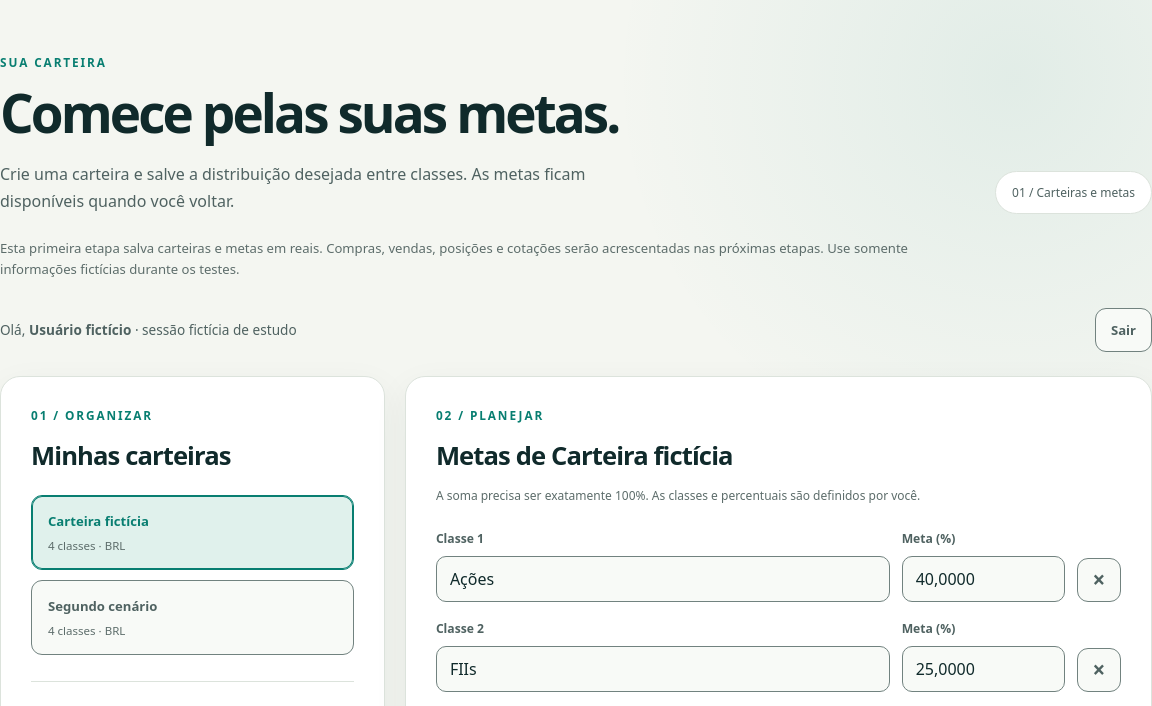
SavedPortfolio › requires an explicit discard before switching or creating a portfolio with unsaved targets
Replace the text in the field named "Meta da classe 1" with "39": (983, 578) [902,556,1065,602]
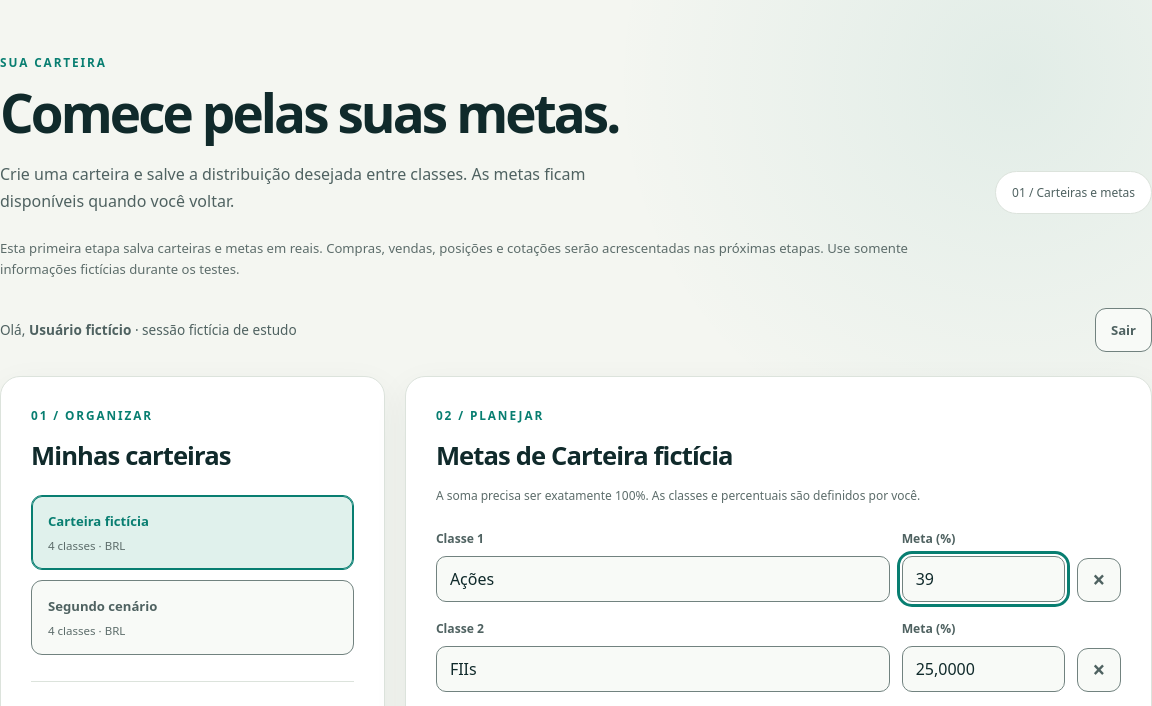
Replace the text in the field named "Meta da classe 2" with "26": (983, 668) [902,646,1065,692]
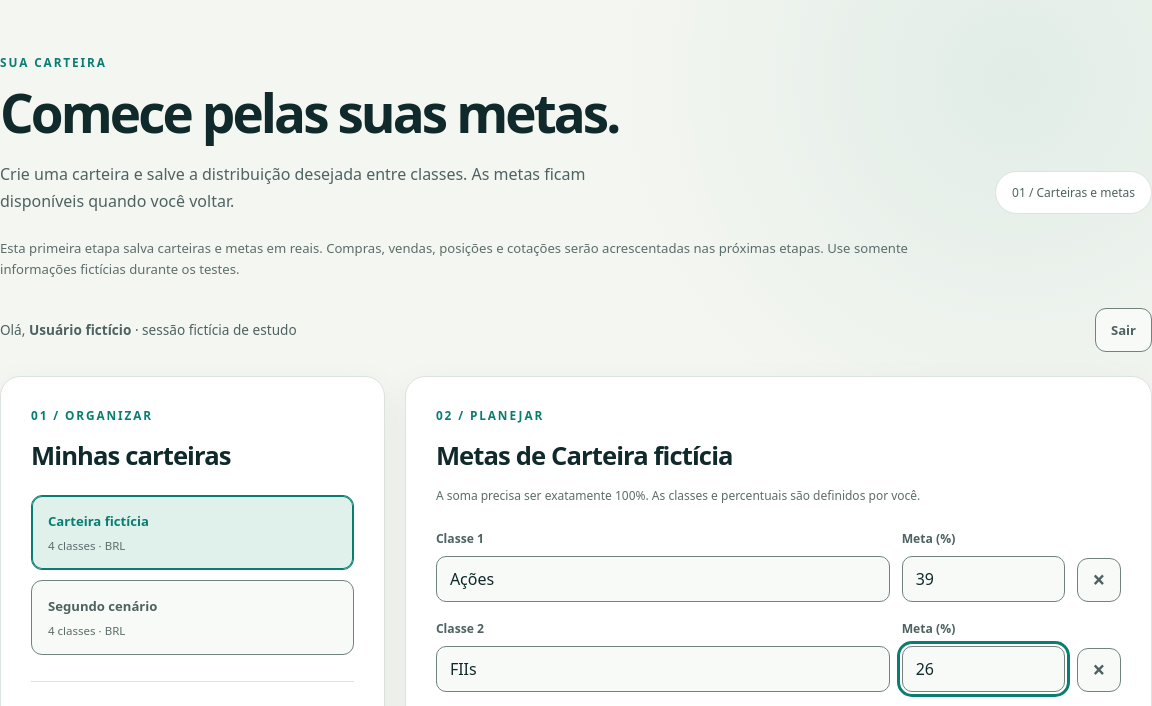
Click the button "Segundo cenário 4 classes · BRL": (103, 606) [31,580,354,655]
(page scrolled)
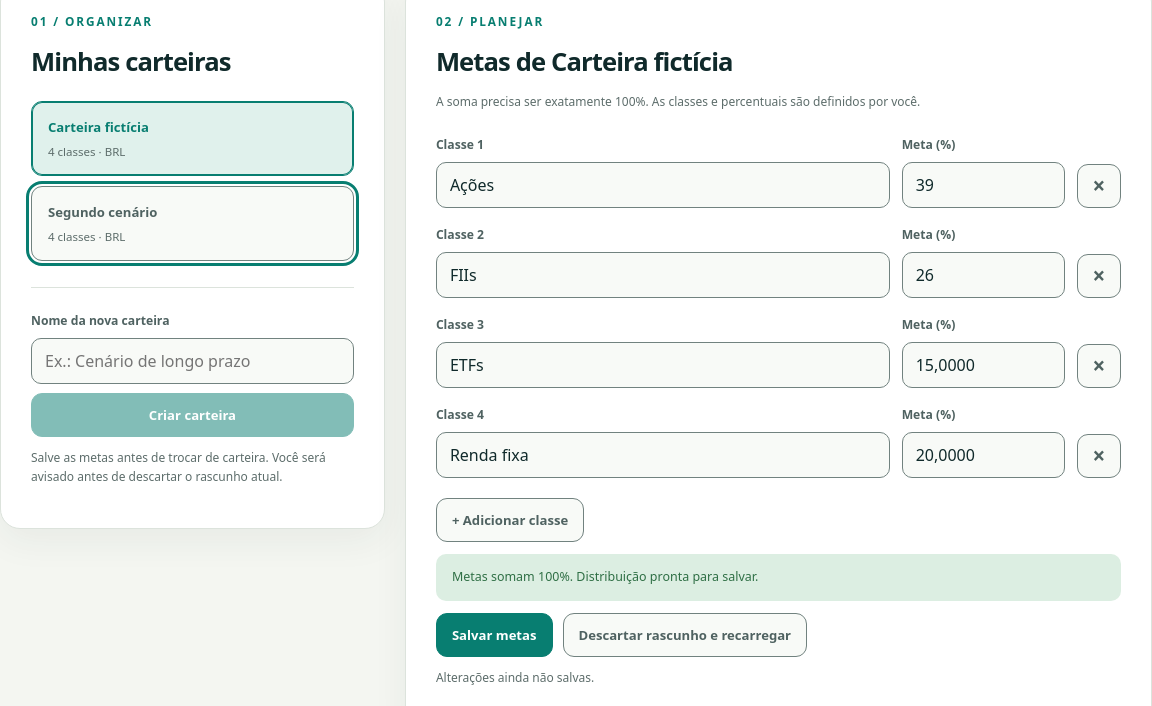
In the field labelled "Nome da nova carteira": (192, 361) [31,338,354,384], type "Terceiro cenário"
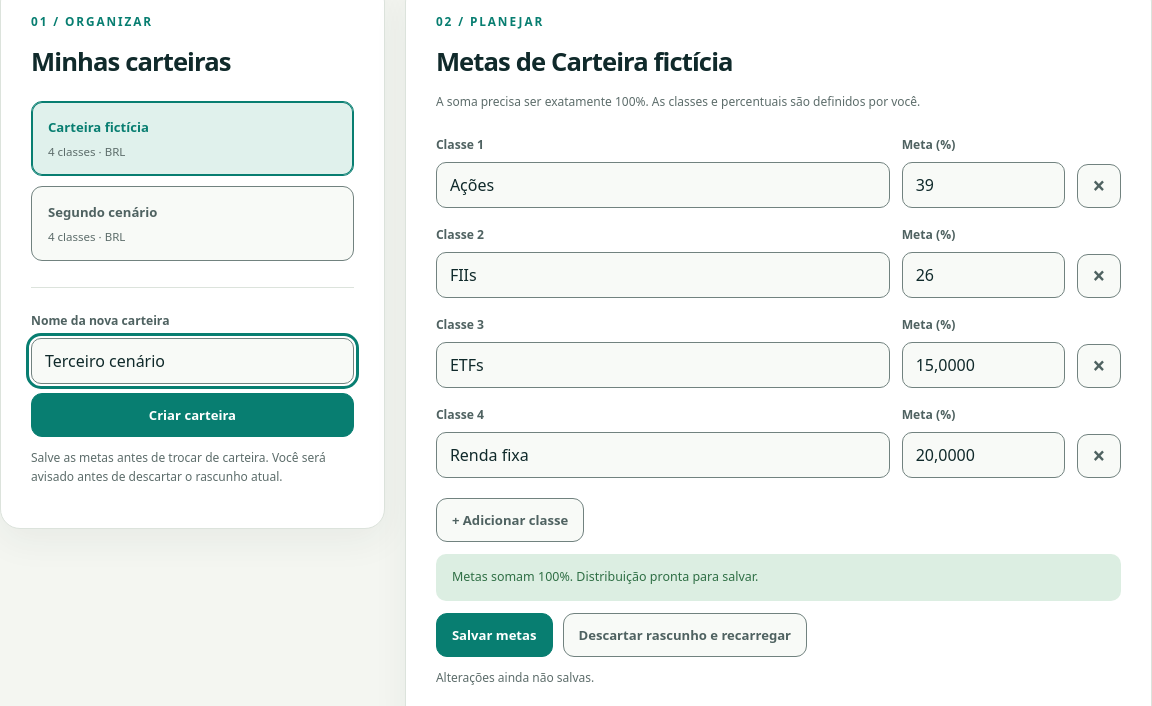
Click the button "Criar carteira": (192, 415) [31,393,354,437]
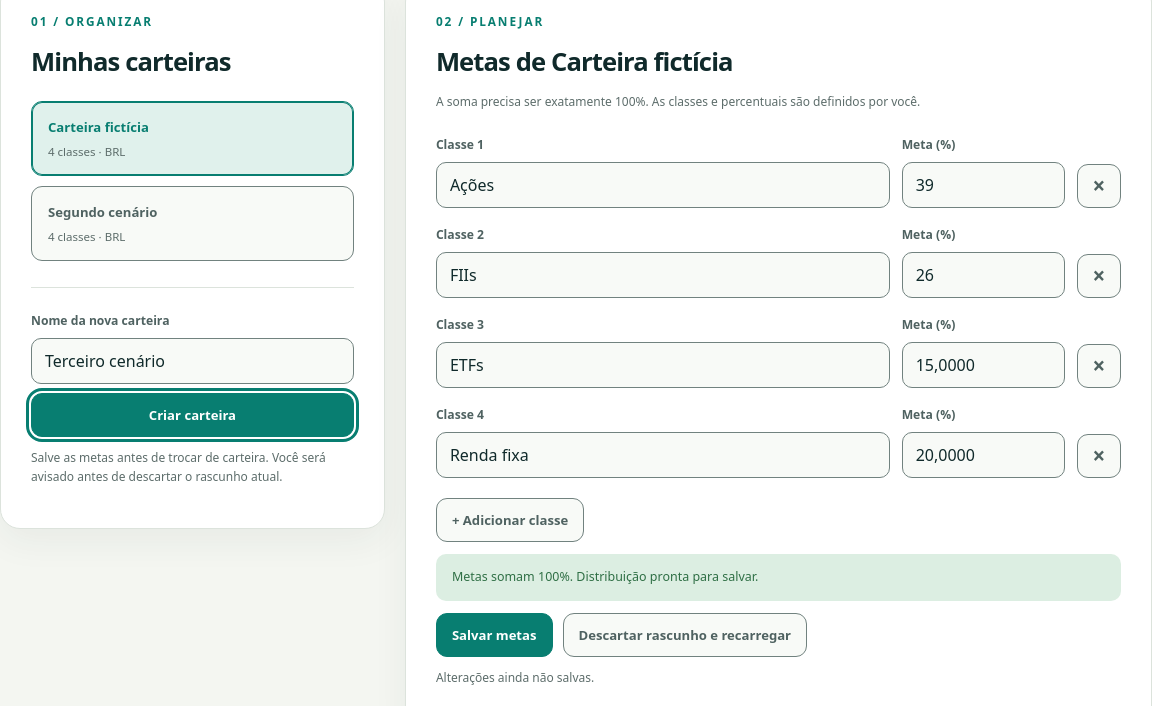
Click the button "Segundo cenário 4 classes · BRL": (103, 212) [31,186,354,261]
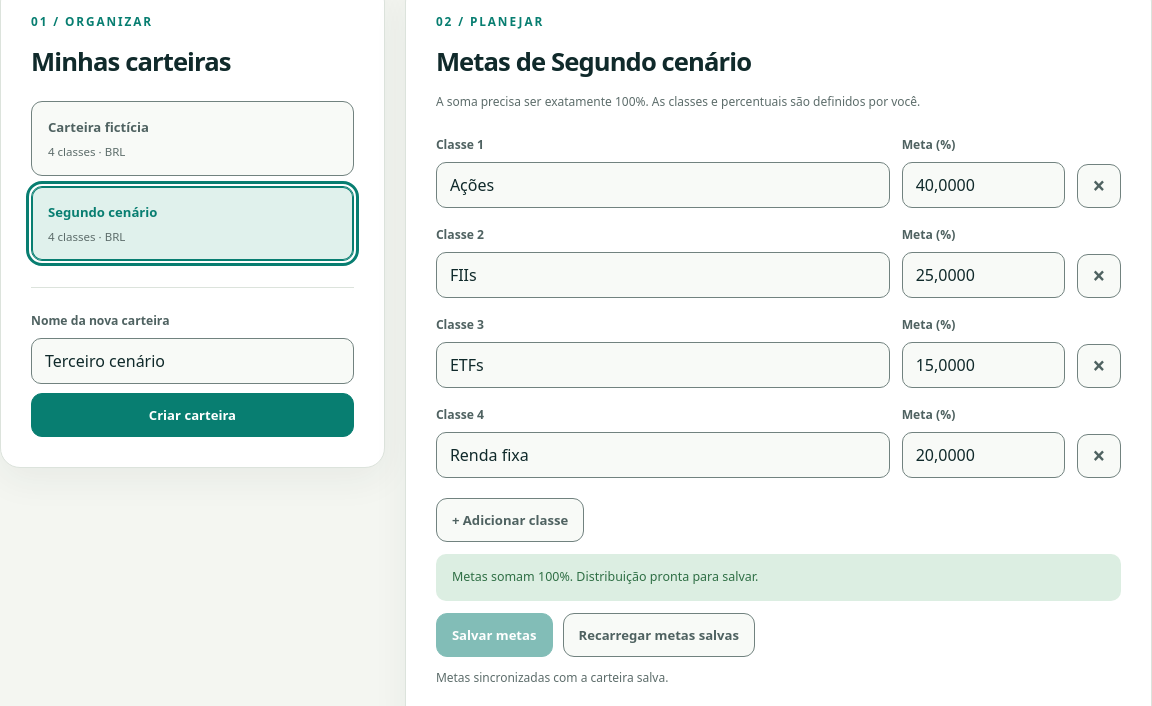
Expected: the heading "Metas de Segundo cenário" is shown, [436,44,751,79]
Expected: the field named "Meta da classe 1" holds "40,0000", [902,162,1065,208]
